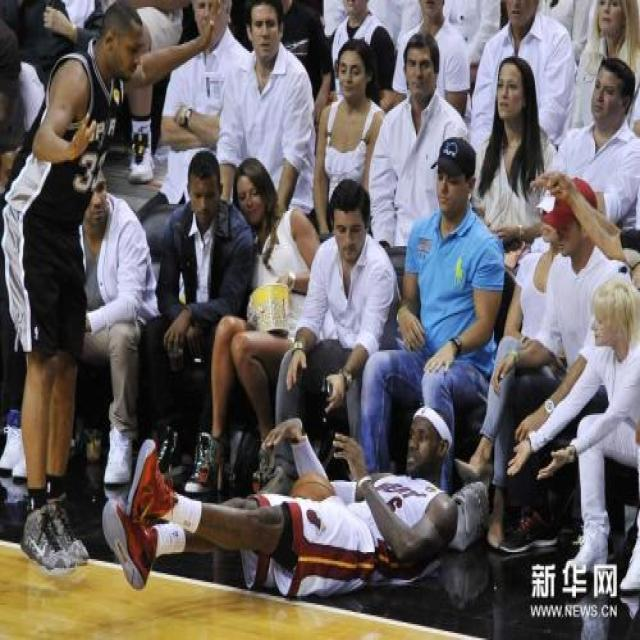10-: (5, 2, 631, 587)
down: (80, 410, 470, 603)
